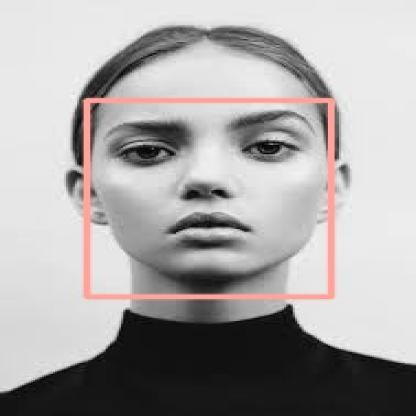without_mask: (86, 100, 330, 296)
